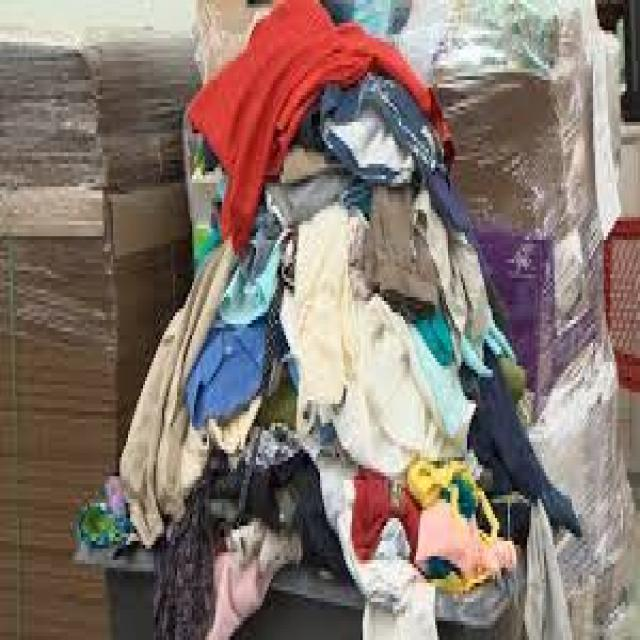Clothes -Biodegradable-: (72, 0, 581, 640)
